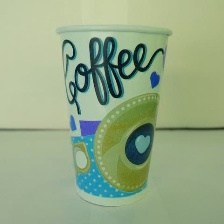paper_cup: (49, 18, 177, 212)
